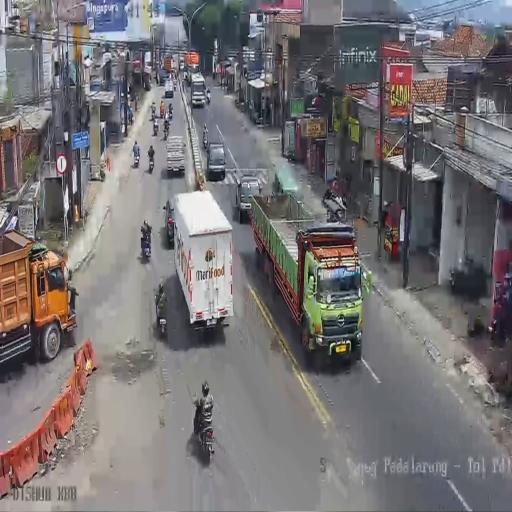3: (169, 189, 234, 331), (190, 73, 208, 108)
car: (233, 171, 260, 224), (206, 142, 226, 181), (164, 77, 174, 98), (158, 69, 168, 85), (180, 58, 184, 70)
truck: (197, 412, 215, 460), (157, 307, 168, 338), (148, 151, 155, 173), (133, 148, 140, 168), (163, 120, 169, 140), (205, 86, 211, 104), (152, 119, 158, 136), (167, 107, 173, 122), (150, 108, 156, 122), (173, 76, 177, 91), (160, 105, 164, 118)
